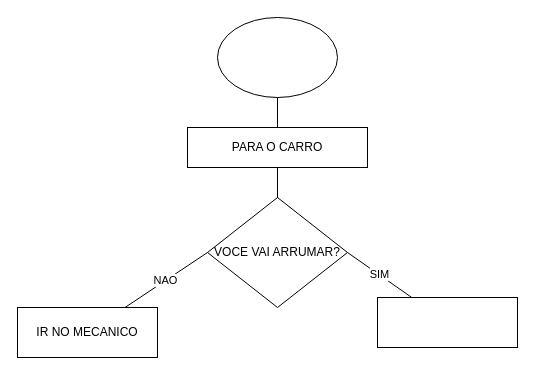
This 535x375 diagram has some shape labels left out. Here are the shapes that lost their labels. From the top down, the box of each, then its label:
(216, 16, 338, 98): INICIO
(376, 296, 518, 348): arruma ai
